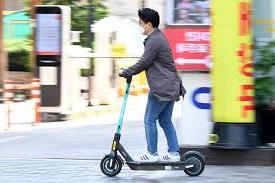nonhelmet: (98, 8, 207, 177)
